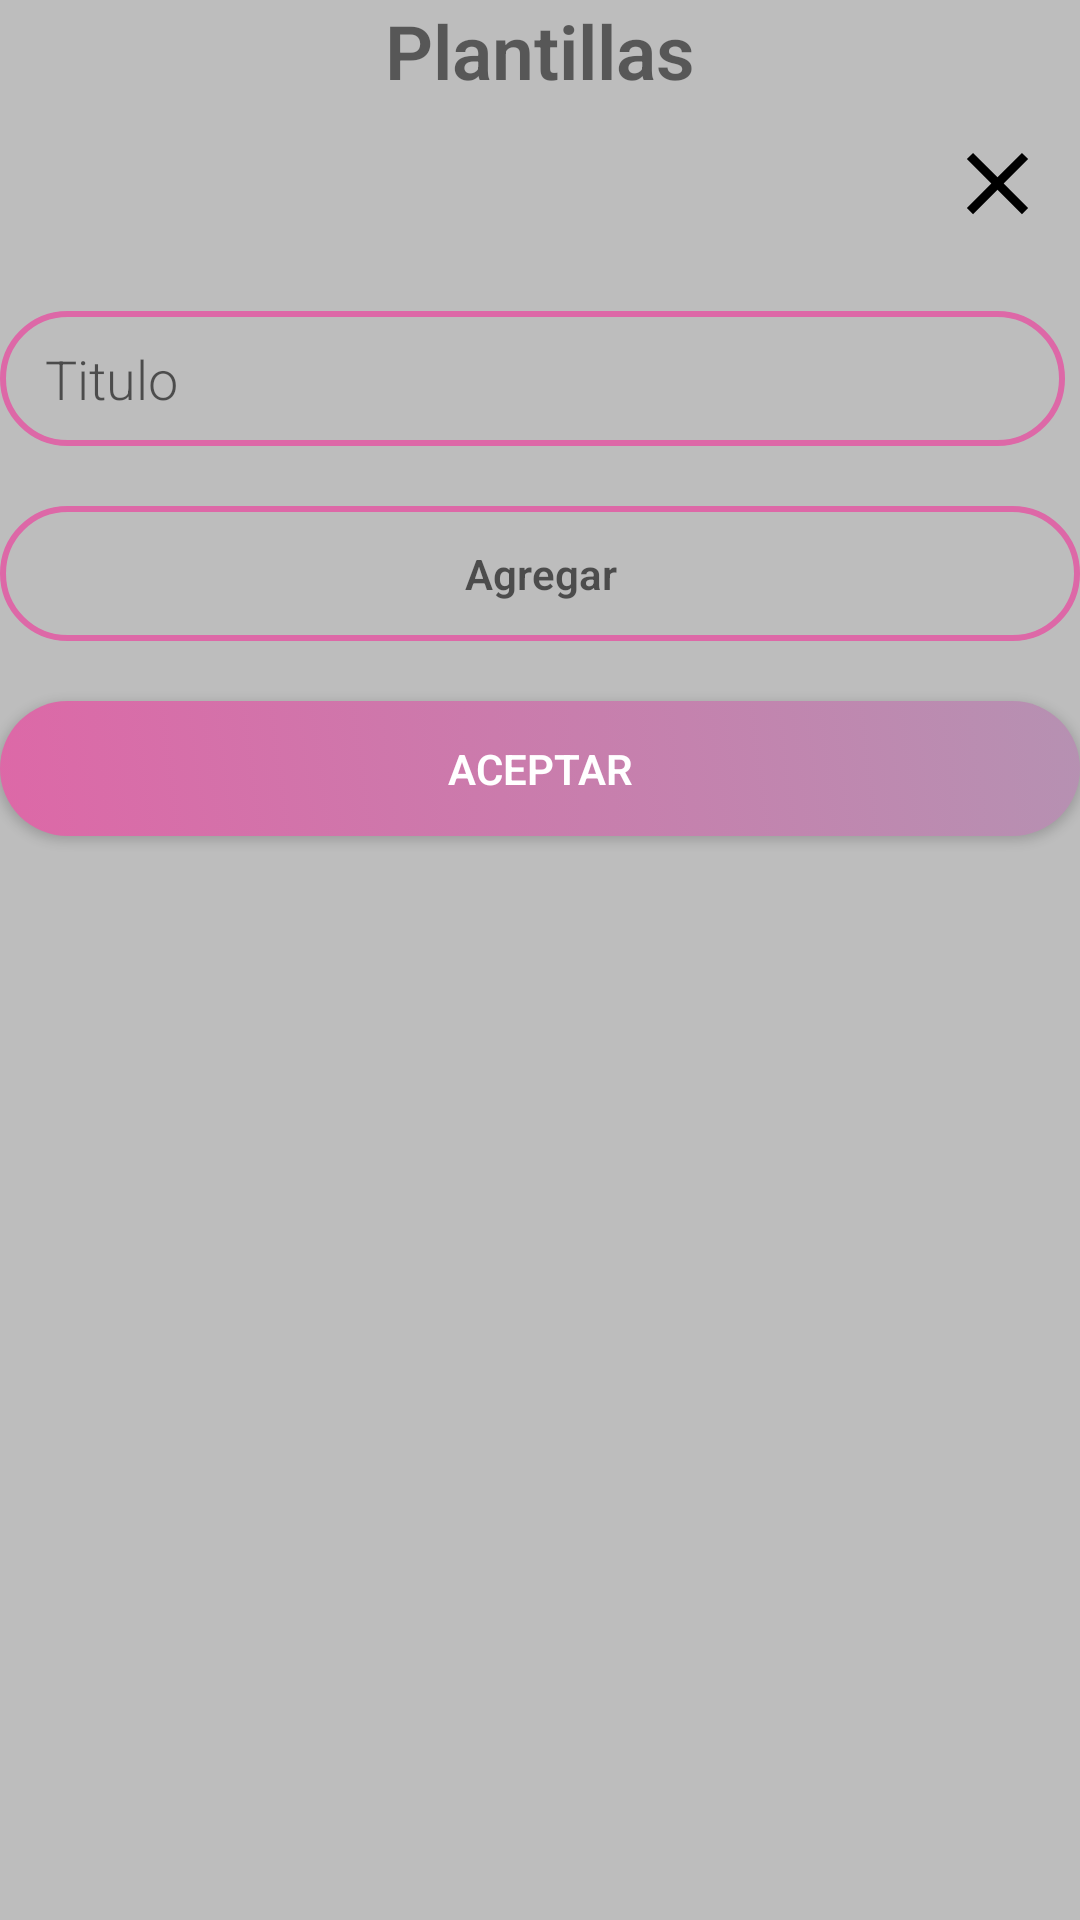

Named icons in this screenshot (1080 x 1920) and their centers, point (x, y):
close: point (997, 183)
